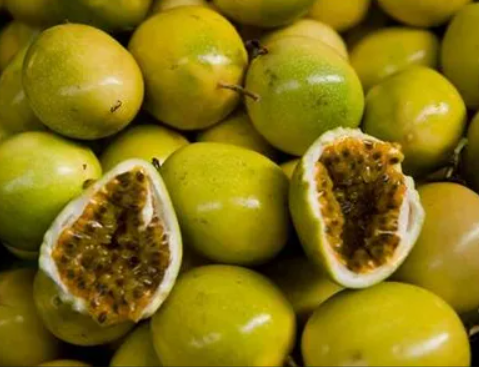maracuya: (151, 140, 297, 262), (16, 16, 147, 148), (125, 5, 253, 134), (149, 264, 305, 367), (243, 35, 366, 156)
